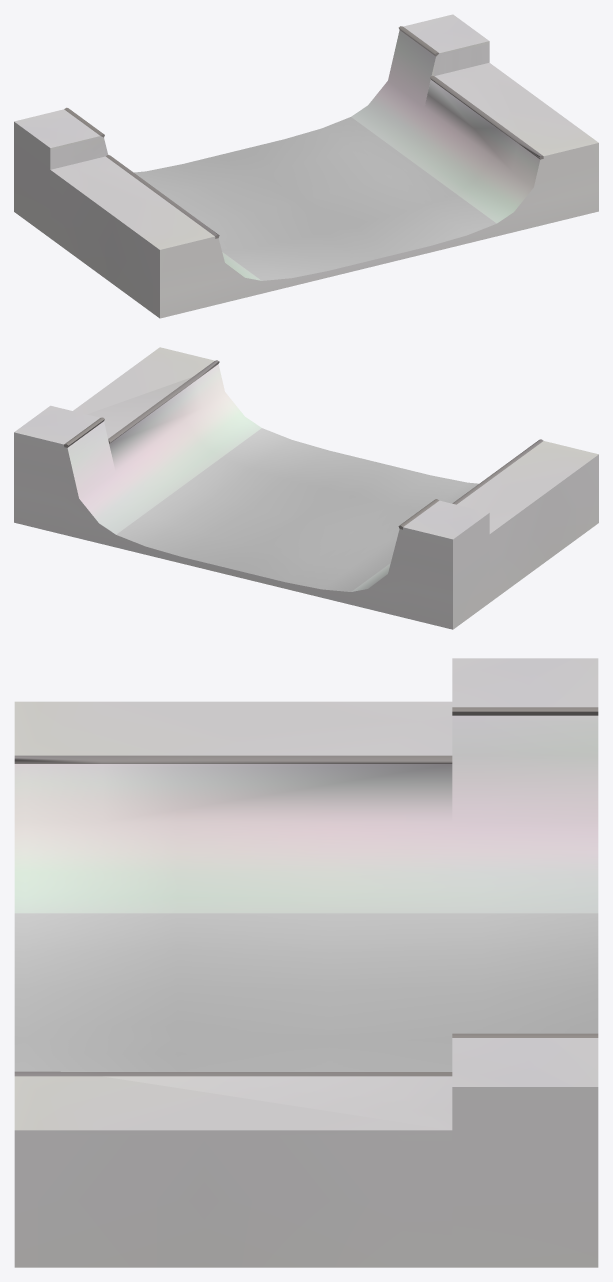
File: HalfPipeExtensionCement.glb
3 renders of one model, top to bottom at view 1: azimuth 30°, elevation 25°; view 2: azimuth 150°, elevation 25°; view 3: azimuth 270°, elevation 25°, orthographic. The views are drawn at different scales.
Visible parts, largest first — view 1: HalfPipeExtensionCement; view 2: HalfPipeExtensionCement; view 3: HalfPipeExtensionCement.
Part boxes in pixels (x1=…): HalfPipeExtensionCement: x1=14, y1=14, x2=598, y2=318; HalfPipeExtensionCement: x1=14, y1=347, x2=598, y2=629; HalfPipeExtensionCement: x1=14, y1=658, x2=598, y2=1267.
Size of the model in its own units: 13.9 by 2.76 by 8.
1 material, 1 textured.
